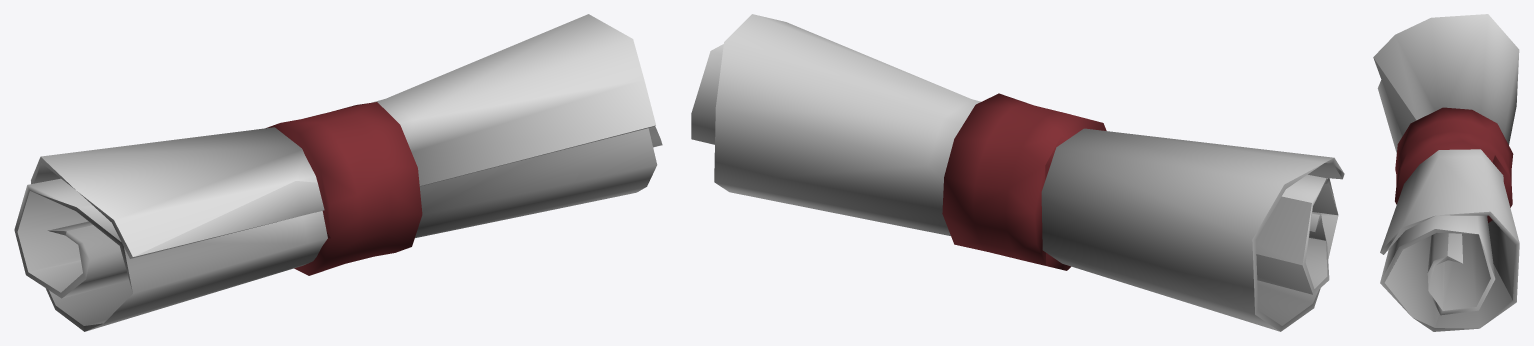
File: pq_parchemin_2.glb
3 renders of one model, left to right at view 1: azimuth 30°, elevation 25°; view 2: azimuth 150°, elevation 25°; view 3: azimuth 270°, elevation 25°, orthographic. The views are drawn at different scales.
Parts seen in each view (by area): view 1: Scroll_2; view 2: Scroll_2; view 3: Scroll_2.
Part boxes in pixels (left/top/right/bottom): Scroll_2: left=14, top=14, right=662, bottom=331; Scroll_2: left=691, top=14, right=1344, bottom=331; Scroll_2: left=1373, top=14, right=1519, bottom=331.
Size of the model in its own units: 0.2327 by 0.0579 by 0.0637.
